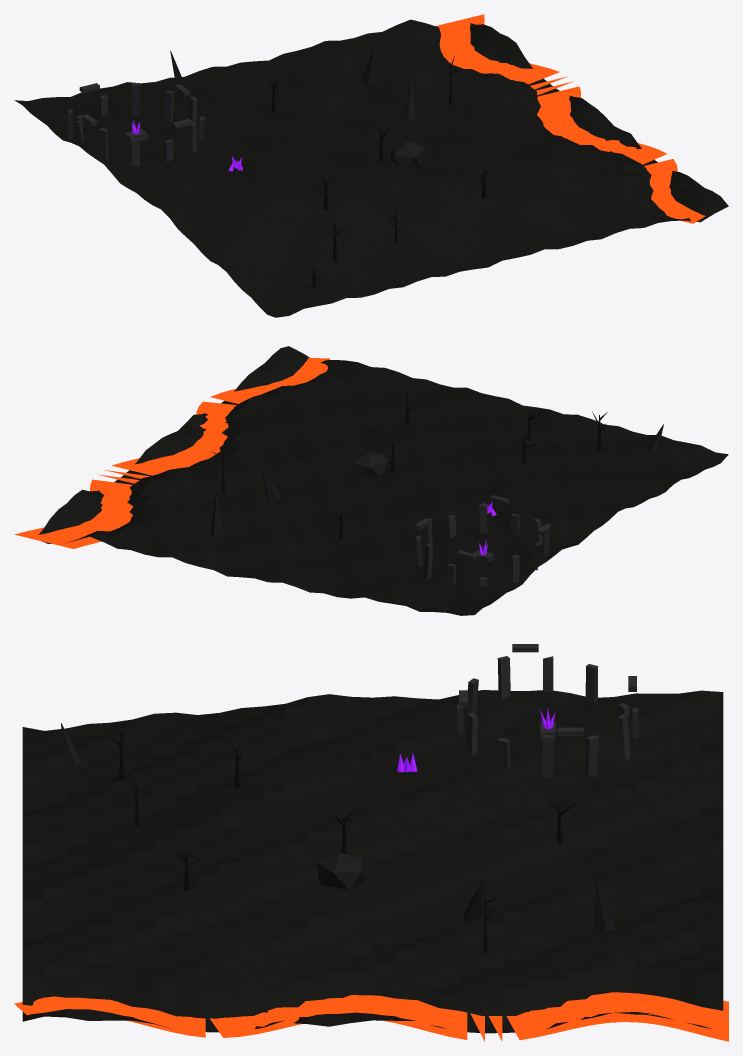
The model's file is chunk-3-2.glb.
3 views of the same model, one above another, from view 1: azimuth 30°, elevation 25°; view 2: azimuth 150°, elevation 25°; view 3: azimuth 270°, elevation 25° (orthographic). The views are drawn at different scales.
Parts seen in each view (by area): view 1: Ash_Ground, Lava, Grave_Stone, Dark_Rock, Dead_Wood; view 2: Ash_Ground, Lava, Grave_Stone, Dark_Rock, Dead_Wood; view 3: Ash_Ground, Lava, Grave_Stone, Dark_Rock, Dead_Wood.
Part boxes in pixels (box(x1,y1,x2,y2)): Ash_Ground: box(14, 19, 728, 317); Lava: box(435, 14, 705, 223); Grave_Stone: box(68, 83, 204, 166); Dark_Rock: box(170, 47, 424, 287); Dead_Wood: box(267, 55, 490, 261); Ash_Ground: box(38, 346, 728, 615); Lava: box(14, 357, 329, 548); Grave_Stone: box(414, 495, 551, 585); Dark_Rock: box(210, 424, 663, 537); Dead_Wood: box(211, 393, 607, 540); Ash_Ground: box(22, 690, 723, 1033); Lava: box(14, 992, 728, 1041); Grave_Stone: box(457, 644, 638, 777); Dark_Rock: box(61, 723, 614, 930); Dead_Wood: box(114, 724, 579, 952).
Size of what is drawn, in the model's own units: 83.87 by 11.75 by 81.66.
